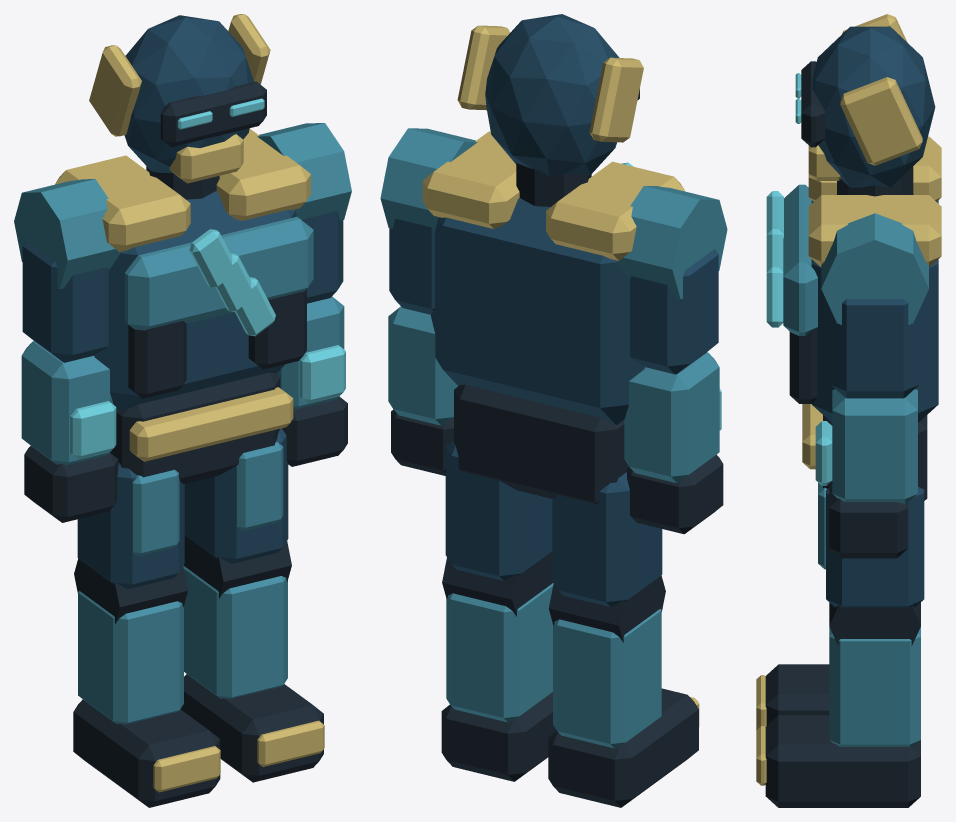
File: volt-runner.glb
The picture shows the model from 3 angles, left to right: view 1: azimuth 30°, elevation 25°; view 2: azimuth 150°, elevation 25°; view 3: azimuth 270°, elevation 25°; orthographic projection. The views are drawn at different scales.
Parts seen in each view (by area): view 1: chest, head, upperarm_l, shin_l, forearm_l, shin_r, pelvis, foot_l, thigh_l, thigh_r, foot_r, forearm_r (+3 smaller); view 2: chest, head, upperarm_l, shin_l, shin_r, forearm_l, pelvis, thigh_l, thigh_r, foot_l, upperarm_r, forearm_r (+1 smaller); view 3: head, chest, upperarm_r, forearm_r, shin_r, foot_r, thigh_r, foot_l, sigil, pelvis.
Part boxes in pixels (left/top/right/bottom): chest: left=55, top=129, right=313, bottom=411; head: left=89, top=14, right=270, bottom=199; upperarm_l: left=14, top=179, right=120, bottom=362; shin_l: left=74, top=558, right=187, bottom=724; forearm_l: left=21, top=341, right=118, bottom=522; shin_r: left=183, top=535, right=291, bottom=698; pelvis: left=110, top=372, right=293, bottom=484; foot_l: left=73, top=699, right=220, bottom=807; thigh_l: left=77, top=462, right=184, bottom=589; thigh_r: left=184, top=428, right=288, bottom=563; foot_r: left=180, top=674, right=324, bottom=782; forearm_r: left=276, top=296, right=347, bottom=466; chest: left=422, top=131, right=685, bottom=424; head: left=457, top=14, right=643, bottom=206; upperarm_l: left=617, top=186, right=727, bottom=374; shin_l: left=548, top=575, right=665, bottom=748; shin_r: left=442, top=551, right=553, bottom=722; forearm_l: left=624, top=352, right=723, bottom=534; pelvis: left=454, top=384, right=628, bottom=503; thigh_l: left=552, top=472, right=662, bottom=607; thigh_r: left=445, top=440, right=552, bottom=580; foot_l: left=548, top=688, right=699, bottom=807; upperarm_r: left=380, top=128, right=477, bottom=314; forearm_r: left=388, top=306, right=457, bottom=475; head: left=801, top=14, right=935, bottom=196; chest: left=783, top=136, right=941, bottom=422; upperarm_r: left=821, top=213, right=928, bottom=398; forearm_r: left=815, top=389, right=917, bottom=558; shin_r: left=829, top=602, right=920, bottom=747; foot_r: left=756, top=715, right=920, bottom=807; thigh_r: left=818, top=482, right=924, bottom=607; foot_l: left=756, top=664, right=829, bottom=729; sigil: left=766, top=191, right=783, bottom=327; pelvis: left=802, top=404, right=927, bottom=500.
Bounding box in the file's own units: 1.08 × 2.58 × 0.585.
